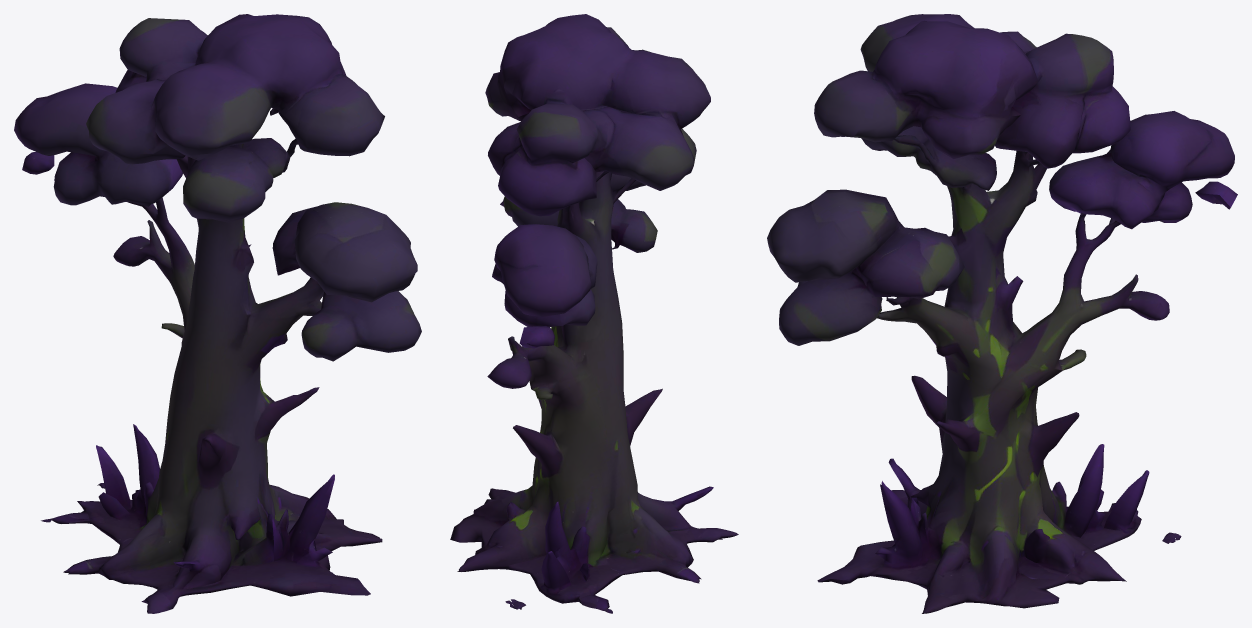
File: SM_Vegetacion_ArbolBajoPoli_02.fbx
The picture shows the model from 3 angles, left to right: view 1: azimuth 30°, elevation 25°; view 2: azimuth 150°, elevation 25°; view 3: azimuth 270°, elevation 25°; orthographic projection. The views are drawn at different scales.
Visible parts, largest first — view 1: SM_Vegetacion_ArbolBajoPoli_02; view 2: SM_Vegetacion_ArbolBajoPoli_02; view 3: SM_Vegetacion_ArbolBajoPoli_02.
Part boxes in pixels (box(x1,y1,x2,y2)): SM_Vegetacion_ArbolBajoPoli_02: box(14, 14, 421, 613); SM_Vegetacion_ArbolBajoPoli_02: box(450, 14, 738, 613); SM_Vegetacion_ArbolBajoPoli_02: box(767, 14, 1237, 613).
Bounding box in the file's own units: 0.5368 × 0.997 × 0.7951.
Materials: 1 (1 with a texture image).
